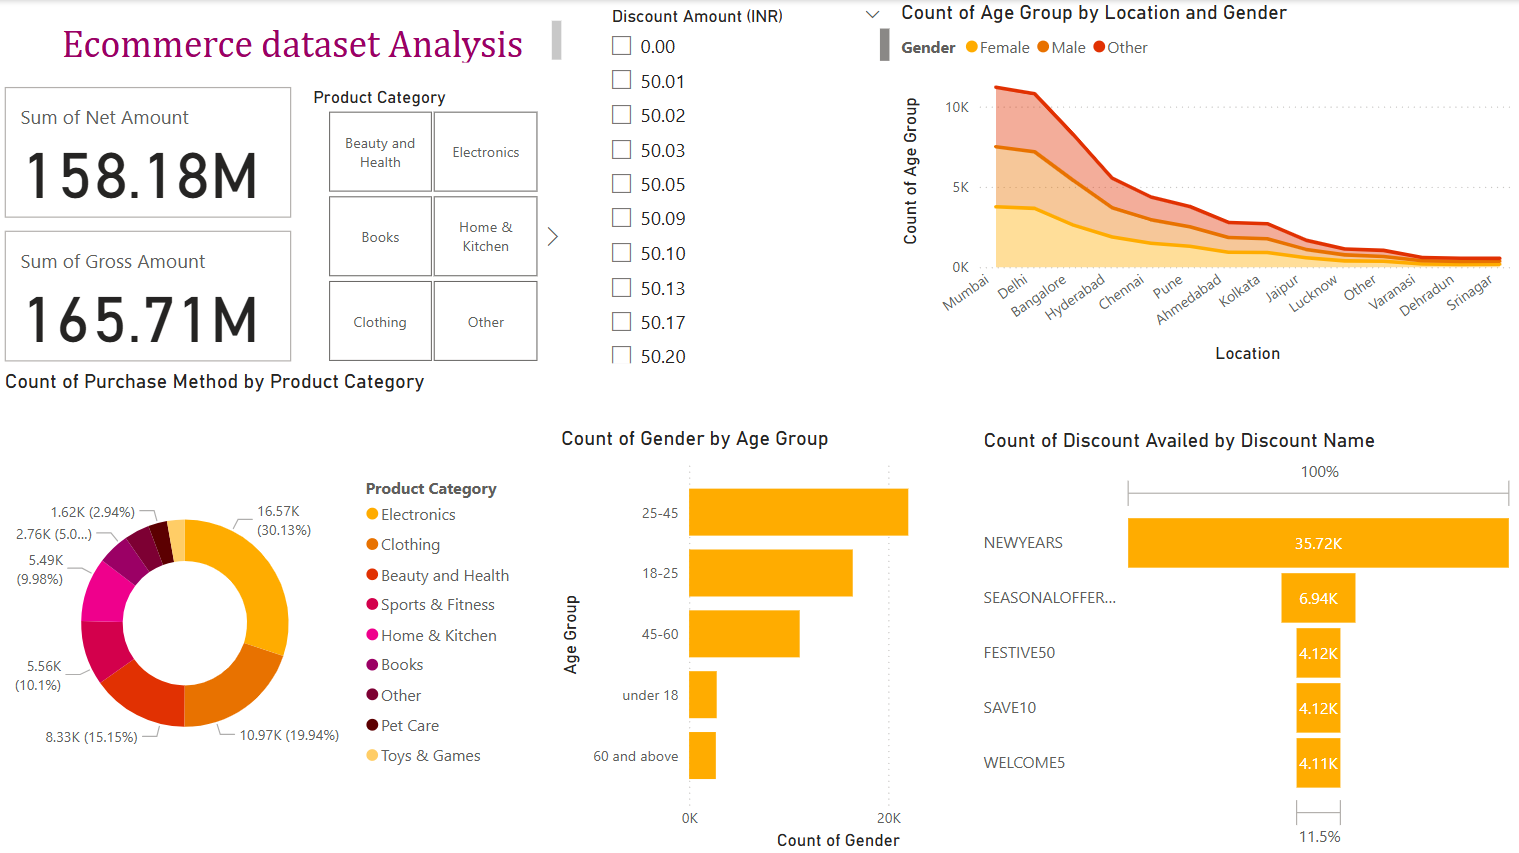

This screenshot's page, from the dashboard's own definition file:
{"tool":"powerbi","page":{"name":"Page 1","canvas":[1280,720],"ordinal":0},"visuals":[{"type":"barChart","fields":{"Y":["CountNonNull(Ecommerce_data (1).Gender)"],"Category":["Ecommerce_data (1).Age Group"]},"box":[467.4,358.1,379.1,361.6],"z":0},{"type":"funnel","fields":{"Category":["Ecommerce_data (1).Discount Name"],"Y":["CountNonNull(Ecommerce_data (1).Discount Availed)"]},"box":[823.3,359.3,457,360.5],"z":1000},{"type":"donutChart","fields":{"Category":["Ecommerce_data (1).Product Category"],"Y":["CountNonNull(Ecommerce_data (1).Purchase Method)"]},"box":[0,310.5,444.2,409.3],"z":2000},{"type":"cardVisual","fields":{"Data":["Sum(Ecommerce_data (1).Net Amount)"]},"box":[0,68.6,251.2,120.9],"z":3000},{"type":"cardVisual","fields":{"Data":["Sum(Ecommerce_data (1).Gross Amount)"]},"box":[0,189.5,251.2,120.9],"z":4000},{"type":"slicer","fields":{"Values":["Ecommerce_data (1).Discount Amount (INR)"]},"box":[502.3,0,251.2,310.5],"z":5000},{"type":"stackedAreaChart","fields":{"Category":["Ecommerce_data (1).Location"],"Y":["CountNonNull(Ecommerce_data (1).Age Group)"],"Series":["Ecommerce_data (1).Gender"]},"box":[753.5,0,526.7,310.5],"z":6000},{"type":"textbox","box":[24.4,12.8,453.5,45.3],"z":7000},{"type":"slicer","fields":{"Values":["Ecommerce_data (1).Product Category"]},"box":[251.2,68.6,225.6,241.9],"z":8000}]}

Visuals, with their boxes in screenshot pixels (x1, y1, x2, y2), scaled from the page's 1280x720 canvas onto the 1519x853 screenshot:
barChart - CountNonNull(Ecommerce_data (1).Gender) x Ecommerce_data (1).Age Group: 555, 424, 1005, 852
funnel - Ecommerce_data (1).Discount Name x CountNonNull(Ecommerce_data (1).Discount Availed): 977, 426, 1518, 852
donutChart - Ecommerce_data (1).Product Category x CountNonNull(Ecommerce_data (1).Purchase Method): 0, 368, 527, 852
cardVisual - Sum(Ecommerce_data (1).Net Amount): 0, 81, 298, 225
cardVisual - Sum(Ecommerce_data (1).Gross Amount): 0, 225, 298, 368
slicer - Ecommerce_data (1).Discount Amount (INR): 596, 0, 894, 368
stackedAreaChart - Ecommerce_data (1).Location x CountNonNull(Ecommerce_data (1).Age Group): 894, 0, 1518, 368
textbox: 29, 15, 567, 69
slicer - Ecommerce_data (1).Product Category: 298, 81, 566, 368
